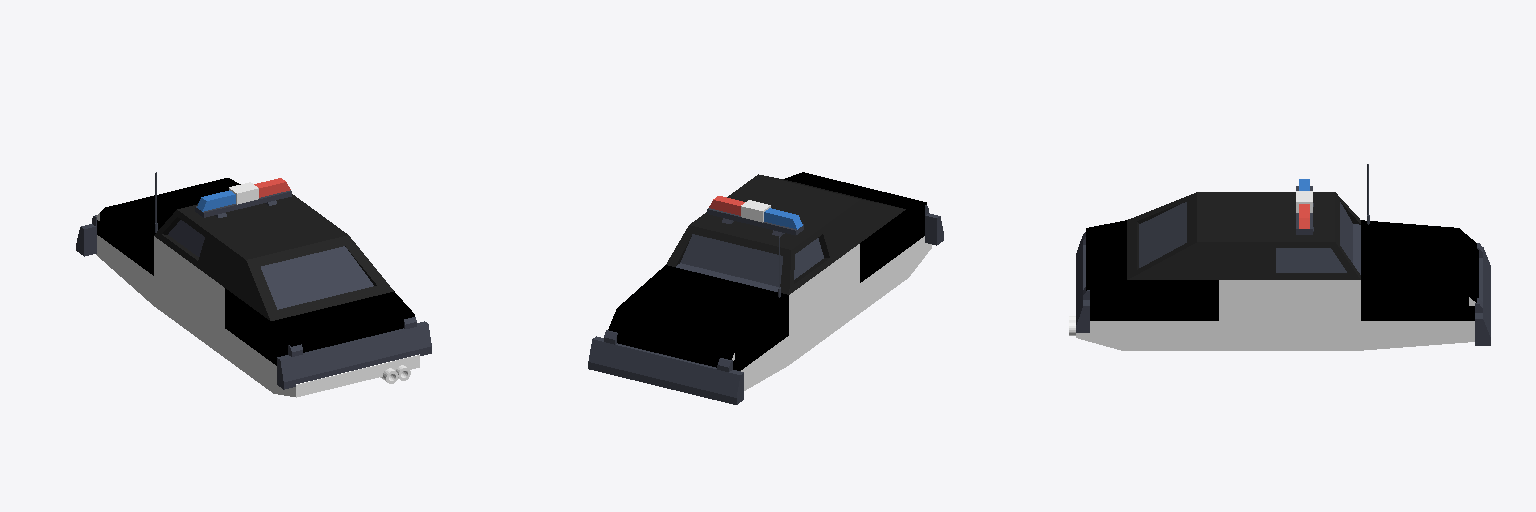
File: Car04.obj
3 views of the same model, side by side, from view 1: azimuth 30°, elevation 25°; view 2: azimuth 150°, elevation 25°; view 3: azimuth 270°, elevation 25° (orthographic).
Visible parts, largest first — view 1: Car04; view 2: Car04; view 3: Car04.
Boxes of the visible parts, x1=… form: Car04: x1=76, y1=172, x2=431, y2=397; Car04: x1=588, y1=172, x2=943, y2=404; Car04: x1=1069, y1=164, x2=1490, y2=350.
Size of the model in its own units: 1.2 by 1 by 2.96.